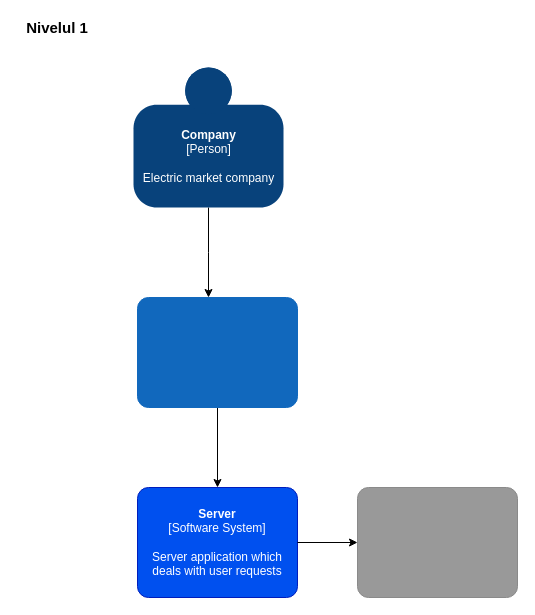
Some shapes in this 535 by 615 pixel diagram are drawn without their labels. Here are the shapes that lost their labels. From the top down, the centre of each, then its label:
the point at 217,352: App [Software System] Control panel and grid system
the point at 437,542: Email System [Software System] Delivers emails
